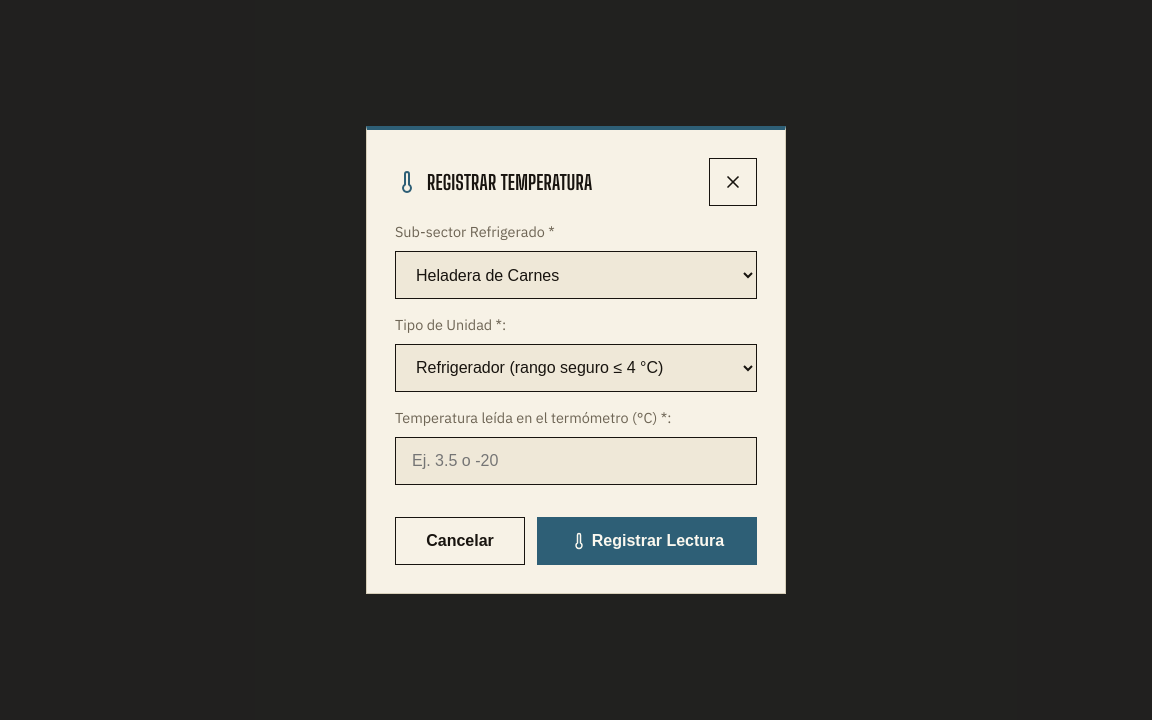
TK-120-FE: TemperatureLogModal (US-033) › registra una lectura dentro de rango y confirma con acento de éxito
Check: the dropdown labelled "Sub-sector Refrigerado *" shows "Heladera de Carnes", box [395,251,757,299]
Type "3.50" into the number field labelled "Temperatura leída en el termómetro (°C) *:" at (576, 461), box [395,437,757,485]
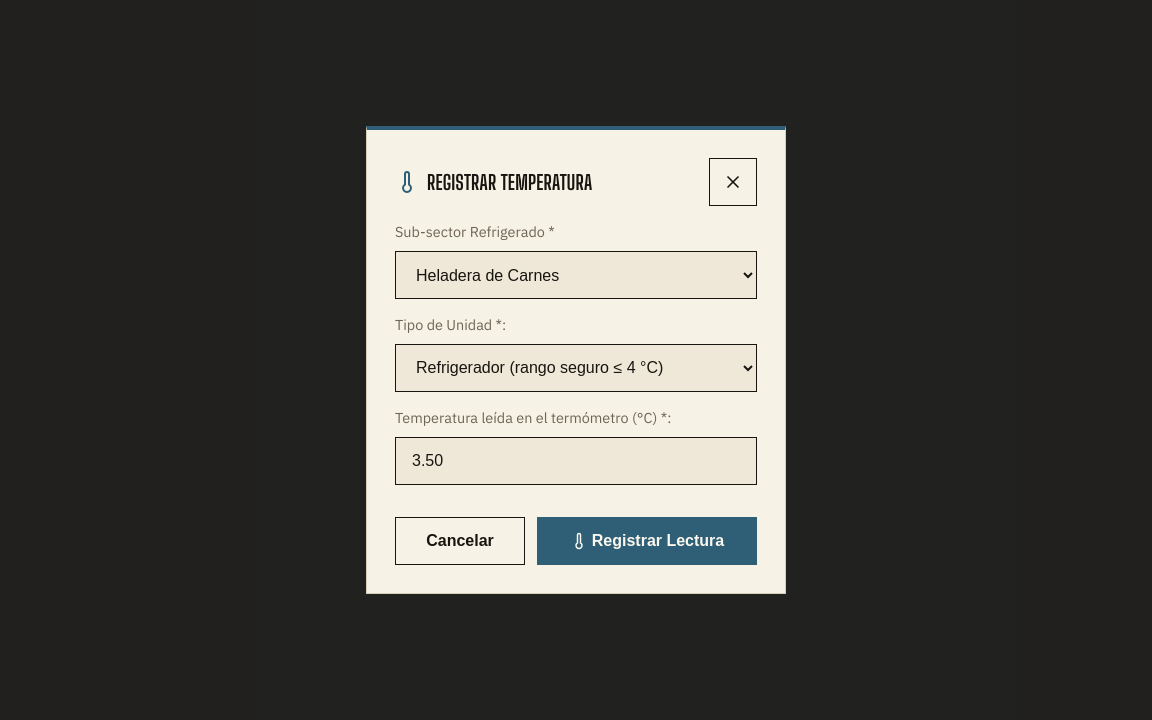
Click the button "Registrar Lectura" at (647, 541), box [537,517,757,565]
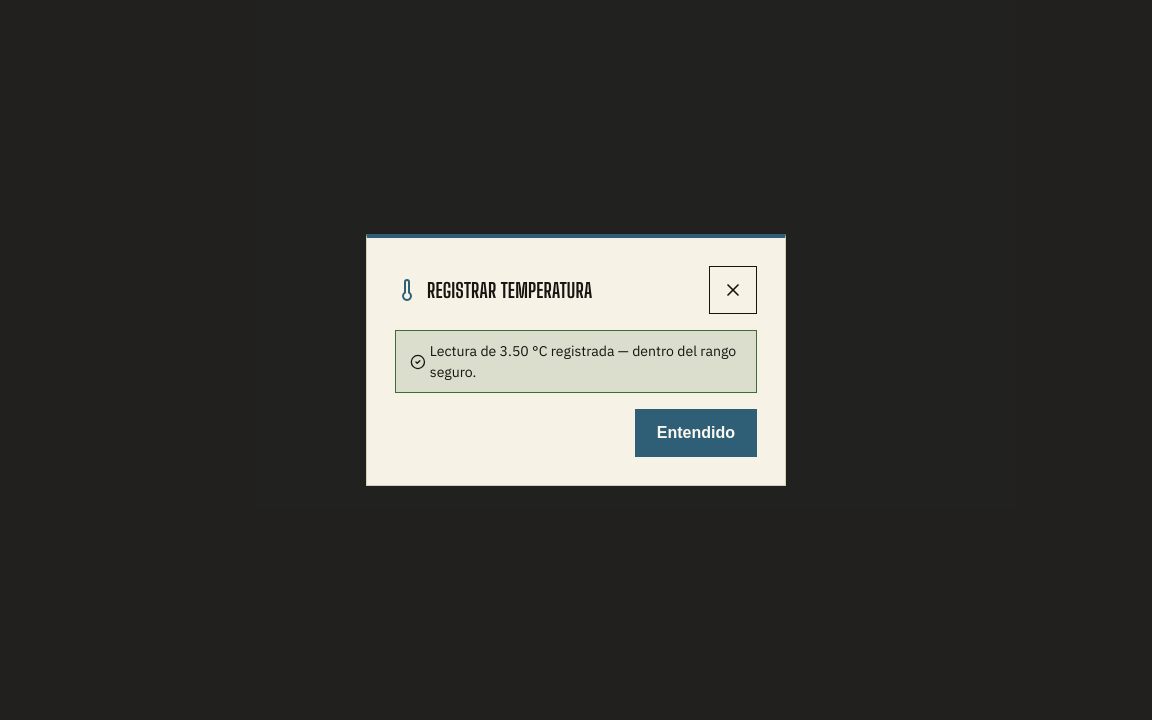
Check: the text "Lectura de 3.50 °C registrada — dentro del rango seguro." is shown, box [430,341,742,382]
